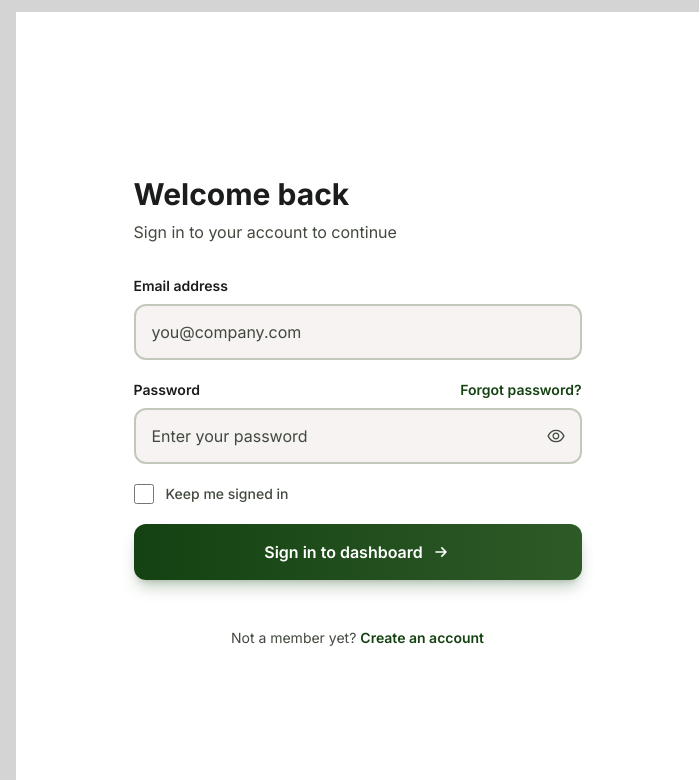
Login Page › shows the error returned by signIn on failure
The width and height of the screenshot is (699, 780).
Type "test@example.com" into the field with placeholder "you@company.com" at (358, 332), box top-left (134, 304), bottom-right (582, 360)
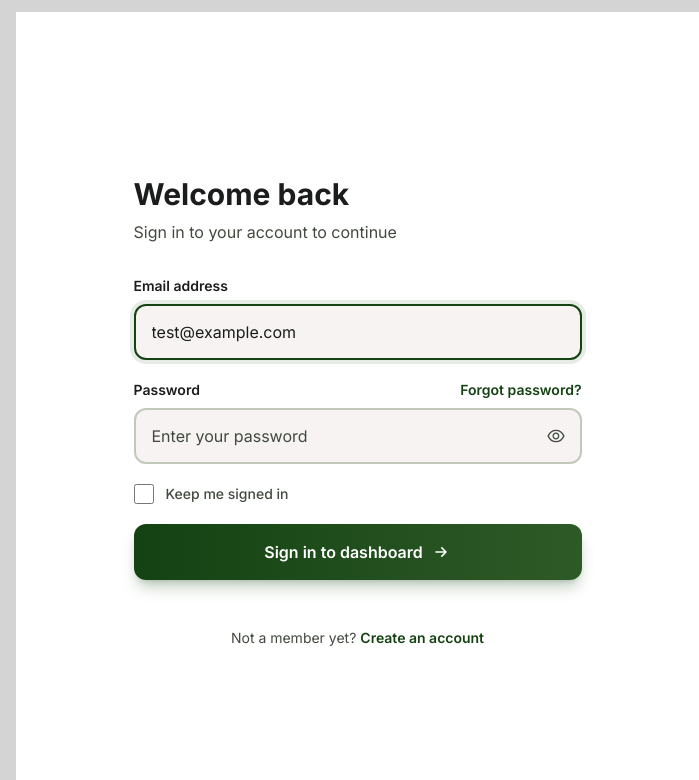
Type "Password1!" into the password field with placeholder "Enter your password" at (358, 436), box top-left (134, 408), bottom-right (582, 464)
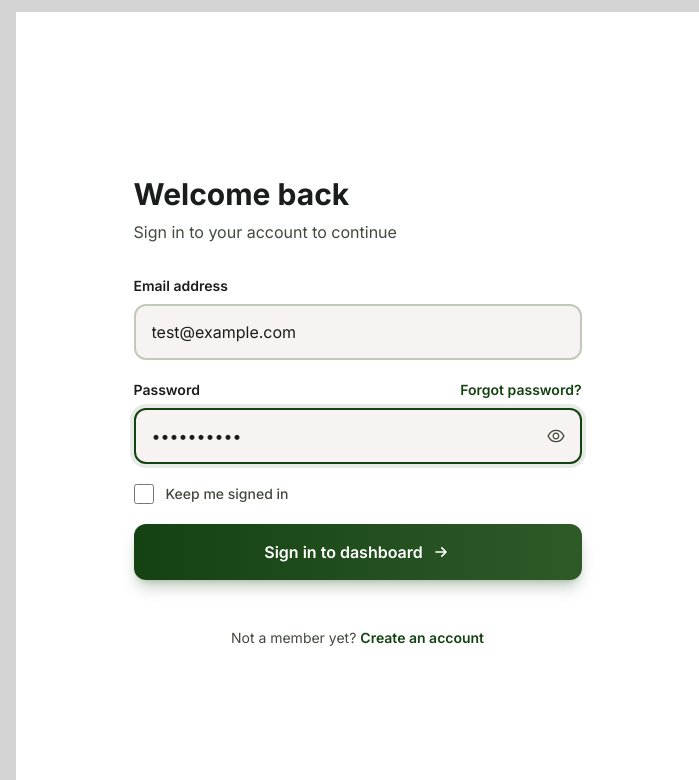
Click the button "Sign in to dashboard" at (358, 552), box top-left (134, 524), bottom-right (582, 580)
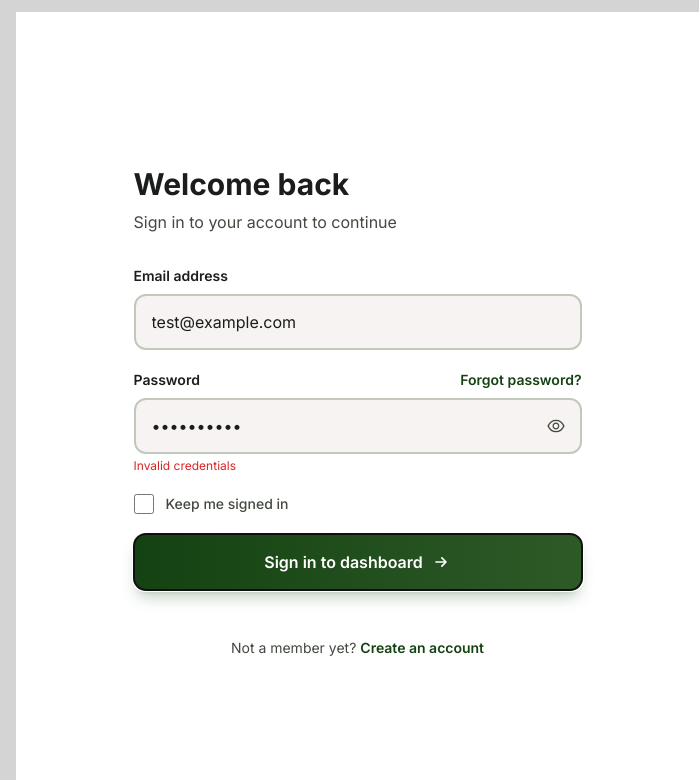
Result: the text "Invalid credentials" is shown at top-left (134, 458), bottom-right (236, 473)
